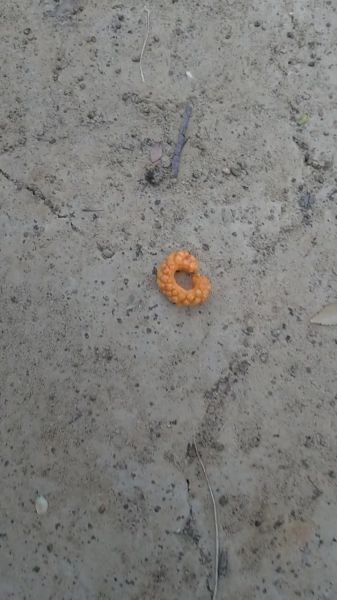eggs: (153, 241, 219, 310)
